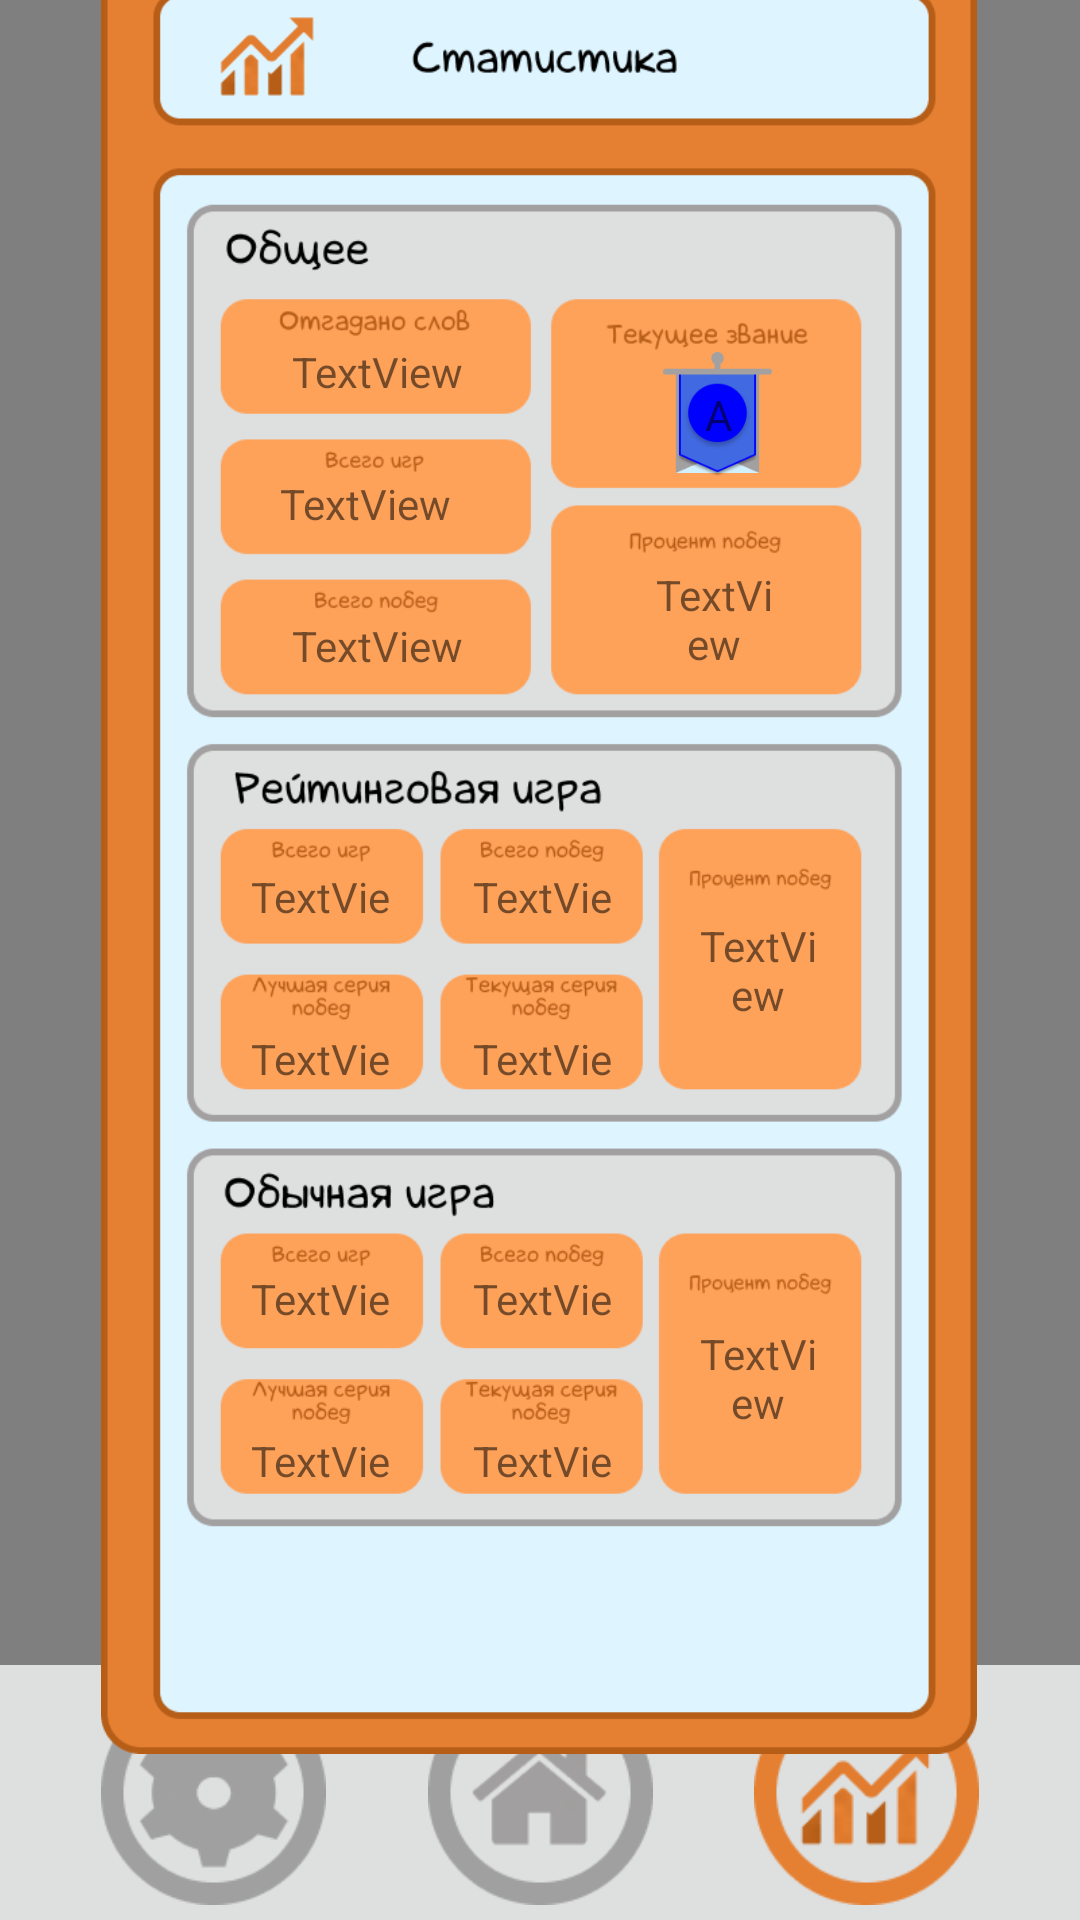

Icon click points for this 1080 × 1920 phone screenshot, format point (x, y):
home off: point (540, 1792)
setting off: point (213, 1792)
stats on: point (866, 1792)
